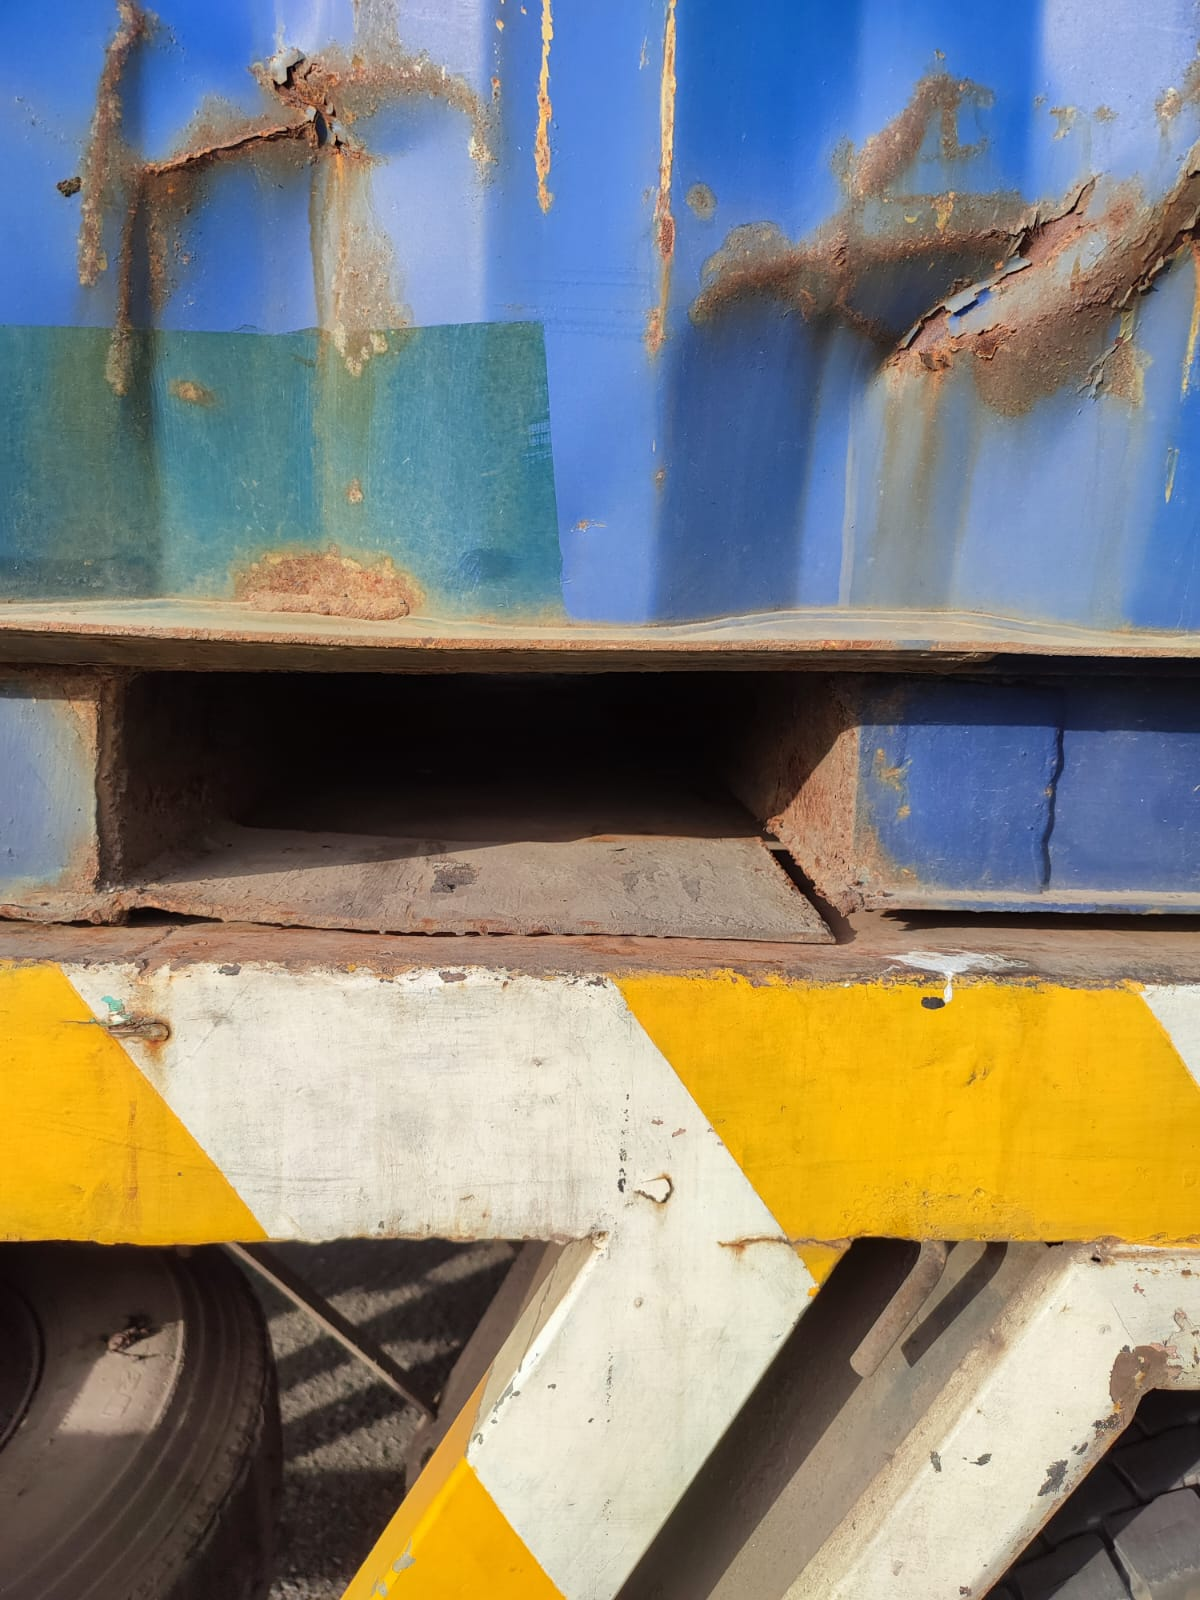dented: (734, 43, 1200, 483), (101, 3, 449, 257)
